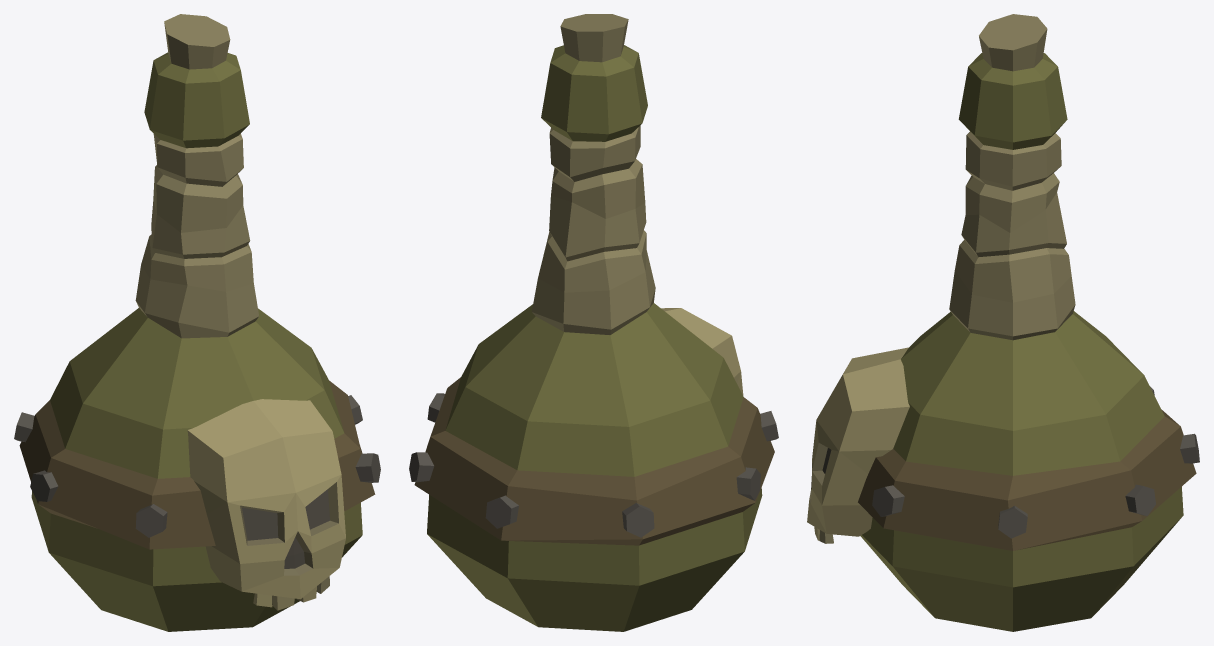
Rendered from Bottle_6.fbx.
The picture shows the model from 3 angles, left to right: view 1: azimuth 30°, elevation 25°; view 2: azimuth 150°, elevation 25°; view 3: azimuth 270°, elevation 25°; orthographic projection.
Parts seen in each view (by area): view 1: Bottle_6; view 2: Bottle_6; view 3: Bottle_6.
Boxes of the visible parts, x1=… form: Bottle_6: x1=14, y1=14, x2=380, y2=631; Bottle_6: x1=409, y1=14, x2=778, y2=631; Bottle_6: x1=807, y1=14, x2=1199, y2=631.
Bounding box in the file's own units: 13.45 × 22.53 × 14.37.
